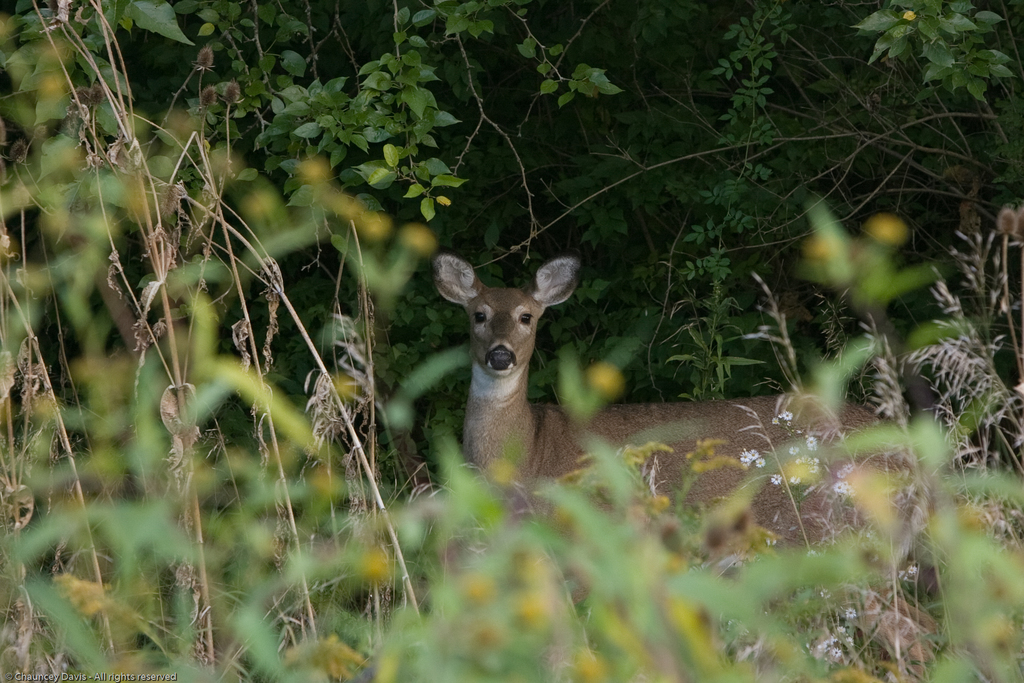Animal: (421, 246, 933, 611)
